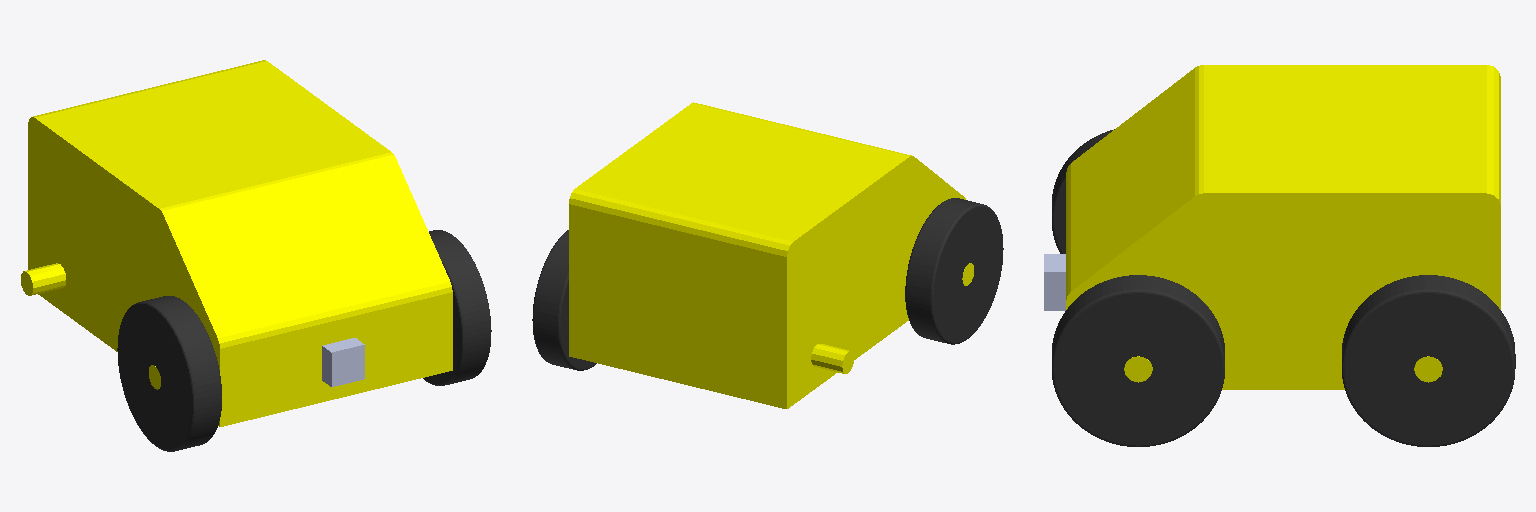
robot.urdf — mobile_robot:
<?xml version="1.0" encoding="utf-8"?>
<!-- This URDF was automatically created by SolidWorks to URDF Exporter! Originally created by [author] ([email redacted]) 
     Commit Version: 1.5.1-0-g916b5db  Build Version: 1.5.7152.31018
     For more information, please see http://wiki.ros.org/sw_urdf_exporter -->
<robot
  name="mobile_robot" xmlns:xacro="http://www.ros.org/wiki/xacro">
  <link
    name="robot_link">
    <inertial>
      <origin
        xyz="0.0569235522208178 0.170277171475293 0.236923261020963"
        rpy="0 0 0" />
      <mass
        value="8.74027084449222" />
      <inertia
        ixx="0.074905220829047"
        ixy="2.91774380001915E-07"
        ixz="-1.32052170408354E-06"
        iyy="0.0918630354355875"
        iyz="0.00460028163280806"
        izz="0.0480683755683095" />
    </inertial>
    <visual>
      <origin
        xyz="0 0 0"
        rpy="0 0 0" />
      <geometry>
        <mesh
          filename="package://mobile_robot/meshes/robot_link.STL" />
      </geometry>
      <material
        name="">
        <color
          rgba="1 1 0 1" />
      </material>
    </visual>
    <collision>
      <origin
        xyz="0 0 0"
        rpy="0 0 0" />
      <geometry>
        <mesh
          filename="package://mobile_robot/meshes/robot_link.STL" />
      </geometry>
    </collision>
  </link>
  <link
    name="left_wheel1_link">
    <inertial>
      <origin
        xyz="0.0135000000000001 -5.55111512312578E-17 5.55111512312578E-17"
        rpy="0 0 0" />
      <mass
        value="0.296238100841938" />
      <inertia
        ixx="0.000546950317521517"
        ixy="-1.37710022577043E-21"
        ixz="1.5771373518154E-22"
        iyy="0.000291401124335906"
        iyz="1.35525271560688E-20"
        izz="0.000291401124335906" />
    </inertial>
    <visual>
      <origin
        xyz="0 0 0"
        rpy="0 0 0" />
      <geometry>
        <mesh
          filename="package://mobile_robot/meshes/left_wheel1_link.STL" />
      </geometry>
      <material
        name="">
        <color
          rgba="0.250980392156863 0.250980392156863 0.250980392156863 1" />
      </material>
    </visual>
    <collision>
      <origin
        xyz="0 0 0"
        rpy="0 0 0" />
      <geometry>
        <mesh
          filename="package://mobile_robot/meshes/left_wheel1_link.STL" />
      </geometry>
    </collision>
  </link>
  <joint
    name="left_wheel1_joint"
    type="continuous">
    <origin
      xyz="0.16492 -0.34714 0.12972"
      rpy="0.42362 0 0" />
    <parent
      link="robot_link" />
    <child
      link="left_wheel1_link" />
    <axis
      xyz="1 0 0" />
  </joint>
  <link
    name="left_wheel2_link">
    <inertial>
      <origin
        xyz="0.0135000000000001 2.77555756156289E-17 2.77555756156289E-17"
        rpy="0 0 0" />
      <mass
        value="0.296238100841938" />
      <inertia
        ixx="0.000546950317521517"
        ixy="-4.44596067334662E-37"
        ixz="-2.87513805867627E-36"
        iyy="0.000291401124335906"
        iyz="-1.78981332462866E-36"
        izz="0.000291401124335906" />
    </inertial>
    <visual>
      <origin
        xyz="0 0 0"
        rpy="0 0 0" />
      <geometry>
        <mesh
          filename="package://mobile_robot/meshes/left_wheel2_link.STL" />
      </geometry>
      <material
        name="">
        <color
          rgba="0.250980392156863 0.250980392156863 0.250980392156863 1" />
      </material>
    </visual>
    <collision>
      <origin
        xyz="0 0 0"
        rpy="0 0 0" />
      <geometry>
        <mesh
          filename="package://mobile_robot/meshes/left_wheel2_link.STL" />
      </geometry>
    </collision>
  </link>
  <joint
    name="left_wheel2_joint"
    type="continuous">
    <origin
      xyz="0.16492 -0.14699 0.12972"
      rpy="1.5708 0 0" />
    <parent
      link="robot_link" />
    <child
      link="left_wheel2_link" />
    <axis
      xyz="1 0 0" />
  </joint>
  <link
    name="right_wheel1_link">
    <inertial>
      <origin
        xyz="-0.0135 2.77555756156289E-17 5.55111512312578E-17"
        rpy="0 0 0" />
      <mass
        value="0.296238100841938" />
      <inertia
        ixx="0.000546950317521517"
        ixy="-4.44596067334662E-37"
        ixz="0"
        iyy="0.000291401124335906"
        iyz="-1.78981332462866E-36"
        izz="0.000291401124335906" />
    </inertial>
    <visual>
      <origin
        xyz="0 0 0"
        rpy="0 0 0" />
      <geometry>
        <mesh
          filename="package://mobile_robot/meshes/right_wheel1_link.STL" />
      </geometry>
      <material
        name="">
        <color
          rgba="0.250980392156863 0.250980392156863 0.250980392156863 1" />
      </material>
    </visual>
    <collision>
      <origin
        xyz="0 0 0"
        rpy="0 0 0" />
      <geometry>
        <mesh
          filename="package://mobile_robot/meshes/right_wheel1_link.STL" />
      </geometry>
    </collision>
  </link>
  <joint
    name="right_wheel1_joint"
    type="continuous">
    <origin
      xyz="-0.051077 -0.34714 0.12972"
      rpy="1.5708 0 0" />
    <parent
      link="robot_link" />
    <child
      link="right_wheel1_link" />
    <axis
      xyz="1 0 0" />
  </joint>
  <link
    name="right_wheel2_link">
    <inertial>
      <origin
        xyz="-0.0135 0 0"
        rpy="0 0 0" />
      <mass
        value="0.296238100841938" />
      <inertia
        ixx="0.000546950317521517"
        ixy="-4.44596067334662E-37"
        ixz="1.3216903188695E-36"
        iyy="0.000291401124335906"
        iyz="-1.78981332462866E-36"
        izz="0.000291401124335906" />
    </inertial>
    <visual>
      <origin
        xyz="0 0 0"
        rpy="0 0 0" />
      <geometry>
        <mesh
          filename="package://mobile_robot/meshes/right_wheel2_link.STL" />
      </geometry>
      <material
        name="">
        <color
          rgba="0.250980392156863 0.250980392156863 0.250980392156863 1" />
      </material>
    </visual>
    <collision>
      <origin
        xyz="0 0 0"
        rpy="0 0 0" />
      <geometry>
        <mesh
          filename="package://mobile_robot/meshes/right_wheel2_link.STL" />
      </geometry>
    </collision>
  </link>
  <joint
    name="right_wheel2_joint"
    type="continuous">
    <origin
      xyz="-0.051077 -0.14699 0.12972"
      rpy="1.5708 0 0" />
    <parent
      link="robot_link" />
    <child
      link="right_wheel2_link" />
    <axis
      xyz="1 0 0" />
  </joint>
  <link
    name="sensor_Link">
    <inertial>
      <origin
        xyz="0 0 0.00644736842105265"
        rpy="0 0 0" />
      <mass
        value="0.00950000000000001" />
      <inertia
        ixx="1.06343201754386E-06"
        ixy="7.612118886702E-23"
        ixz="-5.33245791266713E-23"
        iyy="1.06343201754386E-06"
        iyz="-1.66726434324943E-21"
        izz="1.75833333333334E-06" />
    </inertial>
    <visual>
      <origin
        xyz="0 0 0"
        rpy="0 0 0" />
      <geometry>
        <mesh
          filename="package://mobile_robot/meshes/sensor_Link.STL" />
      </geometry>
      <material
        name="">
        <color
          rgba="0.792156862745098 0.819607843137255 0.933333333333333 1" />
      </material>
    </visual>
    <collision>
      <origin
        xyz="0 0 0"
        rpy="0 0 0" />
      <geometry>
        <mesh
          filename="package://mobile_robot/meshes/sensor_Link.STL" />
      </geometry>
    </collision>
  </link>
  <joint
    name="sensor_joint"
    type="fixed">
    <origin
      xyz="0.058923 -0.41199 0.13381"
      rpy="-1.5708 0 0" />
    <parent
      link="robot_link" />
    <child
      link="sensor_Link" />
    <axis
      xyz="0 1 0" />
  </joint>
</robot>

--- Render facts (derived) ---
3 views of the same robot in one strip: view 1: azimuth 30°, elevation 25°; view 2: azimuth 150°, elevation 25°; view 3: azimuth 270°, elevation 25° (orthographic).
Model mobile_robot with 6 links and 5 joints (4 continuous, 1 fixed), rooted at robot_link, posed every joint at zero.
Visible links, largest first — view 1: robot_link, right_wheel1_link, left_wheel1_link, sensor_Link; view 2: robot_link, right_wheel1_link, left_wheel2_link; view 3: robot_link, left_wheel2_link, left_wheel1_link, right_wheel1_link, sensor_Link.
Boxes of the visible links, x1,y1,x2,y2 form: robot_link: (21, 60, 452, 426); right_wheel1_link: (117, 296, 221, 451); left_wheel1_link: (423, 230, 491, 385); sensor_Link: (322, 338, 364, 386); robot_link: (569, 102, 973, 408); right_wheel1_link: (905, 198, 1003, 344); left_wheel2_link: (532, 230, 596, 370); robot_link: (1066, 65, 1500, 389); left_wheel2_link: (1342, 275, 1515, 446); left_wheel1_link: (1052, 275, 1224, 446); right_wheel1_link: (1052, 129, 1114, 253); sensor_Link: (1044, 254, 1065, 310).
Bounding box of the posed robot: 0.27 × 0.325 × 0.18 m (x, y, z).
5 mesh visuals loaded from 6 distinct referenced files (5 binary STL); not drawn: 1 (reference not matched to a file when rendering).